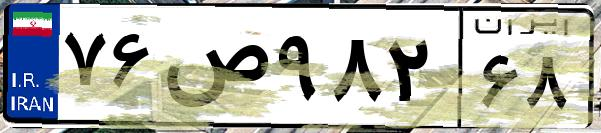2: (385, 28, 445, 110)
6: (475, 38, 525, 113), (110, 28, 158, 98)
7: (57, 26, 110, 100)
8: (330, 28, 385, 110), (525, 38, 570, 115)
9: (270, 28, 330, 110)
ص: (158, 20, 270, 120)
